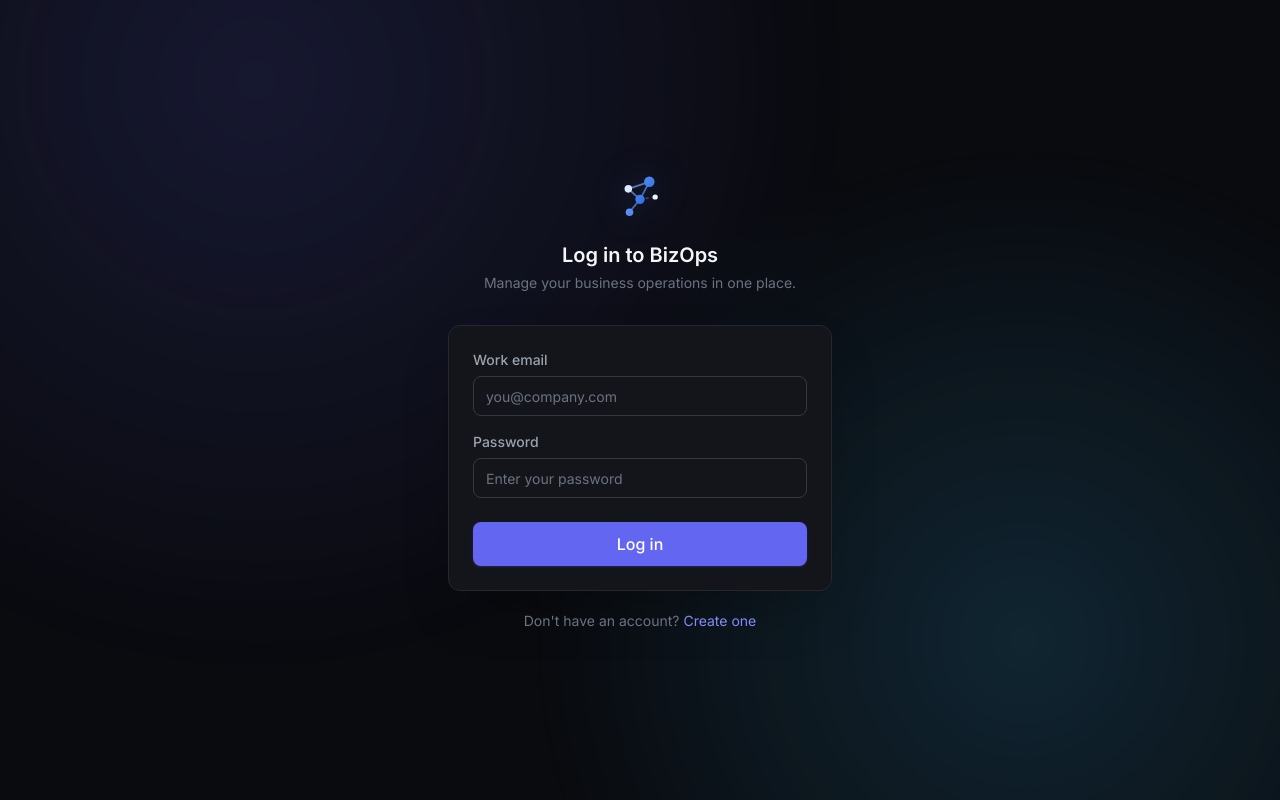
Test: LoginPage › shows validation errors when submitted empty
The image size is (1280, 800).
Click the button "Log in" at (640, 544), box [473, 522, 807, 566]
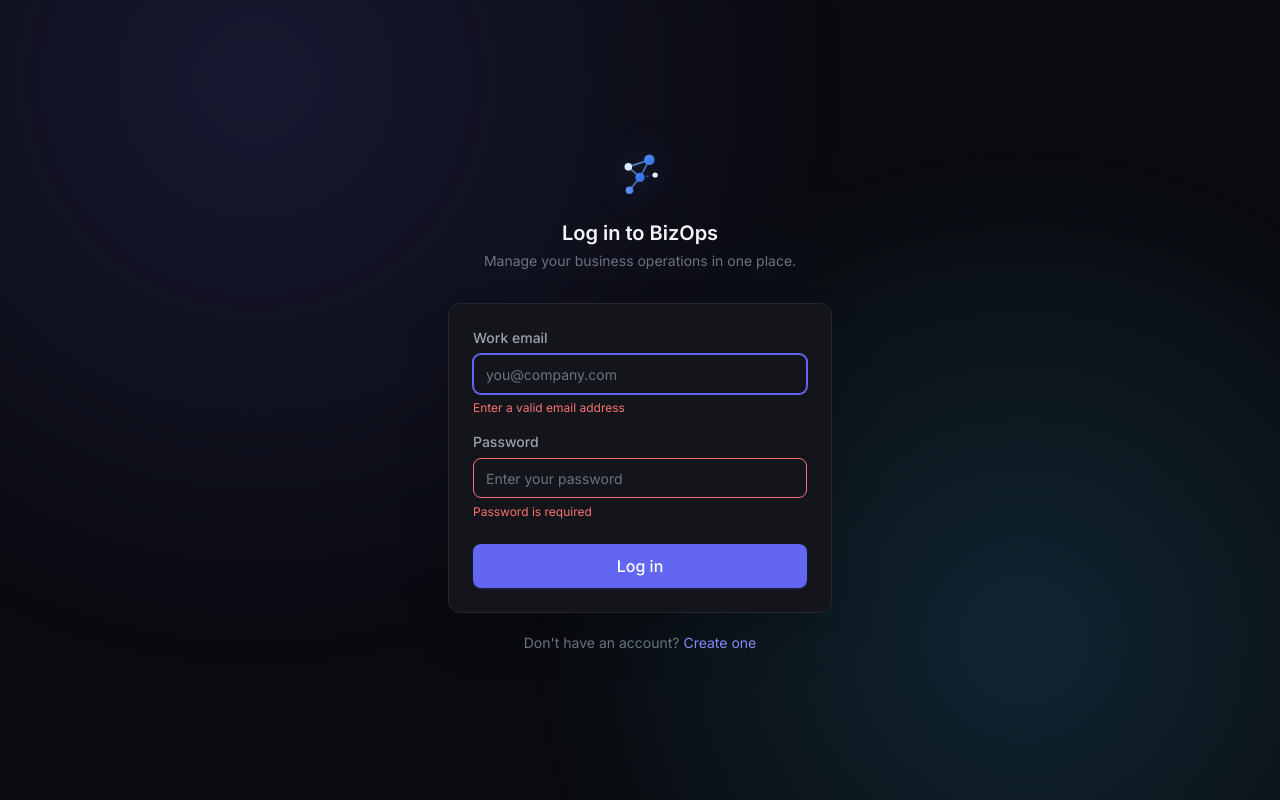
Expected: the text "Enter a valid email address" is shown, [473, 400, 625, 415]
Expected: the text "Password is required" is shown, [473, 504, 592, 519]
